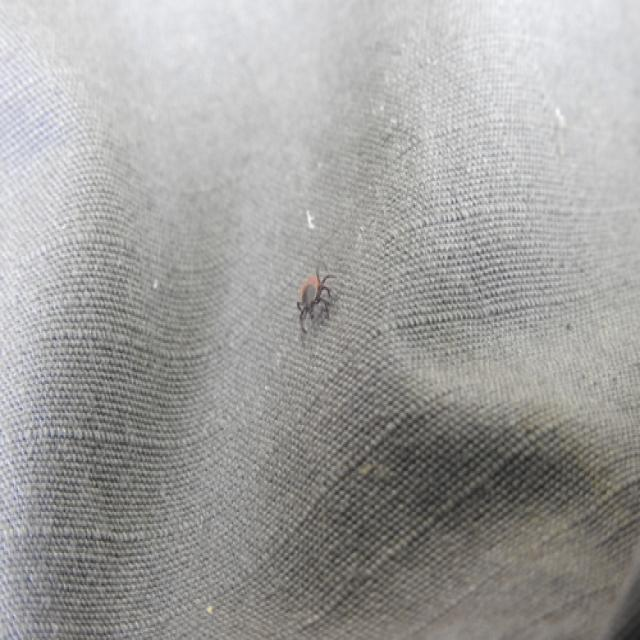Ixodes Ricinus-F: (297, 266, 335, 338)
